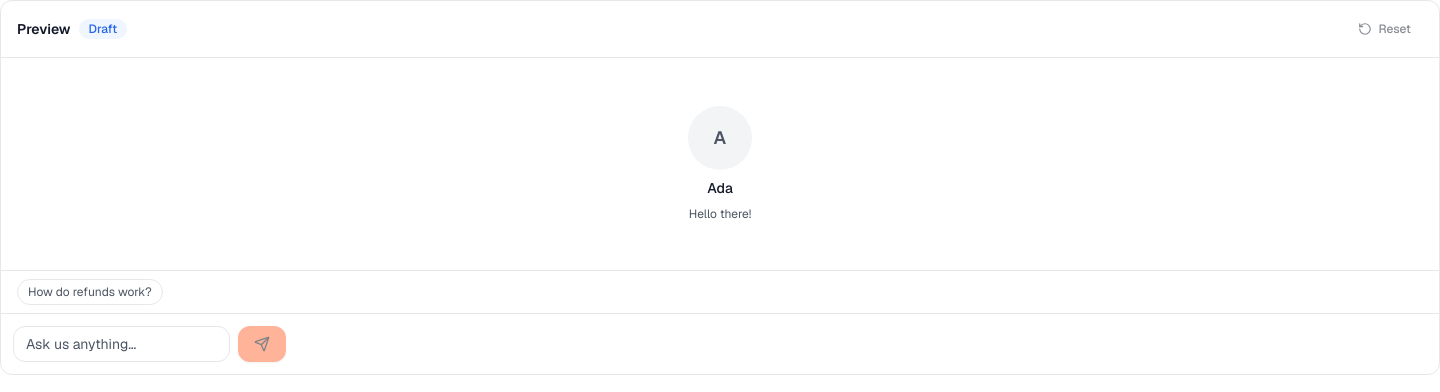
Test: PreviewPanel › surfaces an error inline
Step 1. Type "hi" into the field named "Preview message" → coordinates (122, 344), box [13,326,230,362]
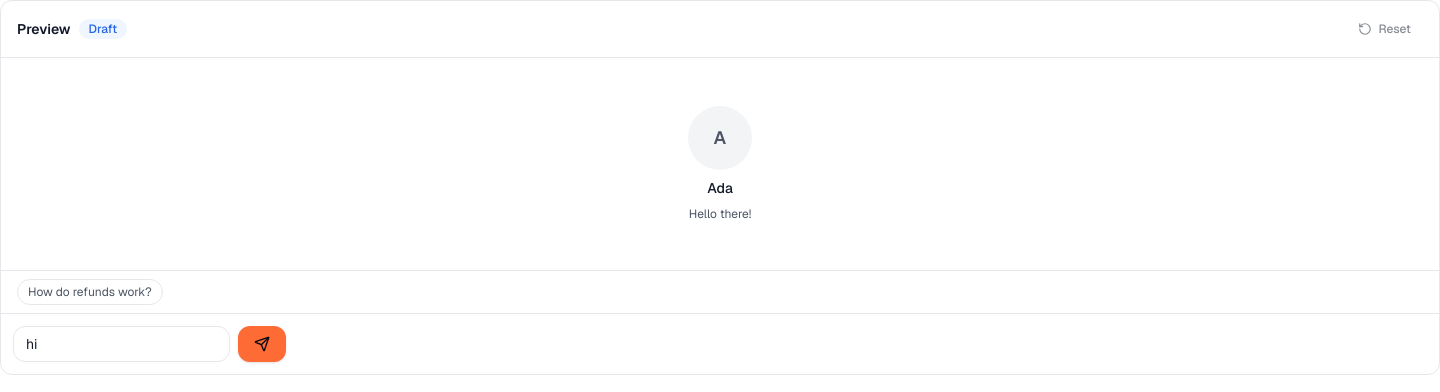
Step 2. Submit the form named "Preview message", box [1,313,1439,374]
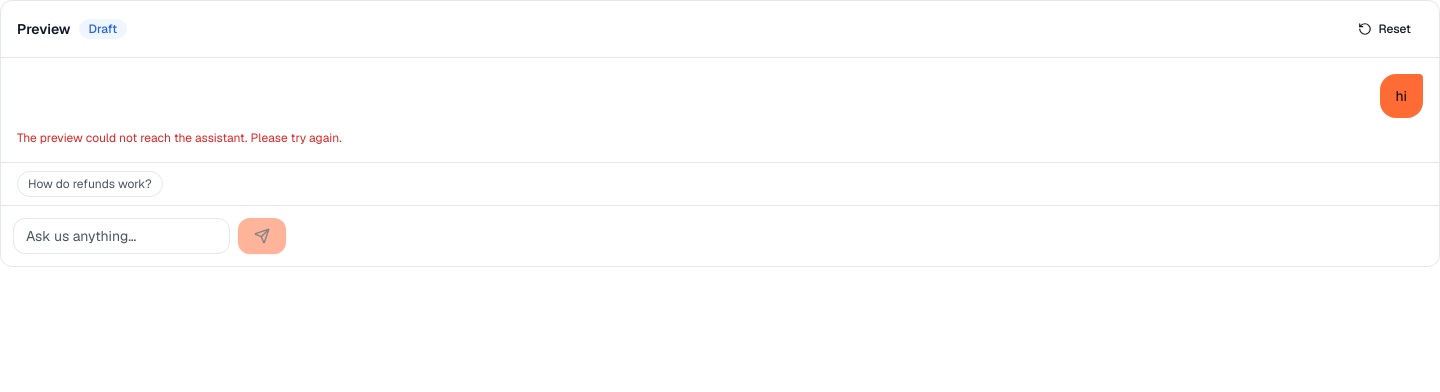
Expected: the text "The preview could not reach the assistant. Please try again." is shown, [17,130,342,146]
